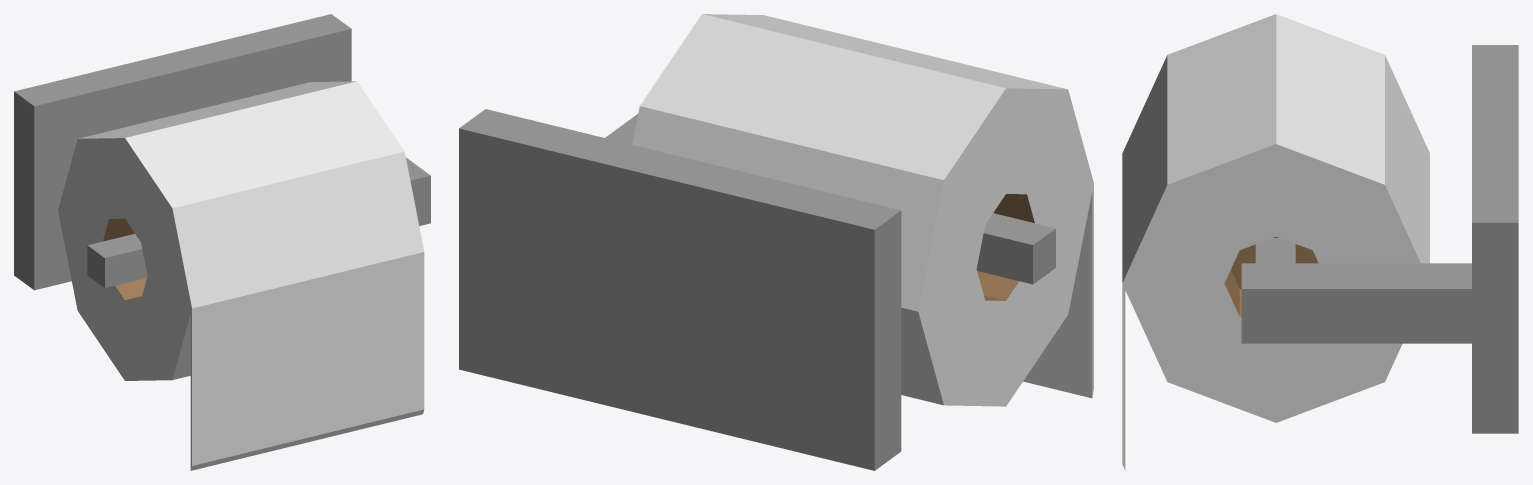
Rendered from ToiletPaper_01.fbx.
3 renders of one model, left to right at view 1: azimuth 30°, elevation 25°; view 2: azimuth 150°, elevation 25°; view 3: azimuth 270°, elevation 25°, orthographic. The views are drawn at different scales.
Parts seen in each view (by area): view 1: ToiletPaper_01; view 2: ToiletPaper_01; view 3: ToiletPaper_01.
Boxes of the visible parts, x1,y1,x2,y2 form: ToiletPaper_01: (14,14,430,470); ToiletPaper_01: (459,14,1093,470); ToiletPaper_01: (1122,14,1518,469).
Bounding box in the file's own units: 19.07 × 15.22 × 16.73.
